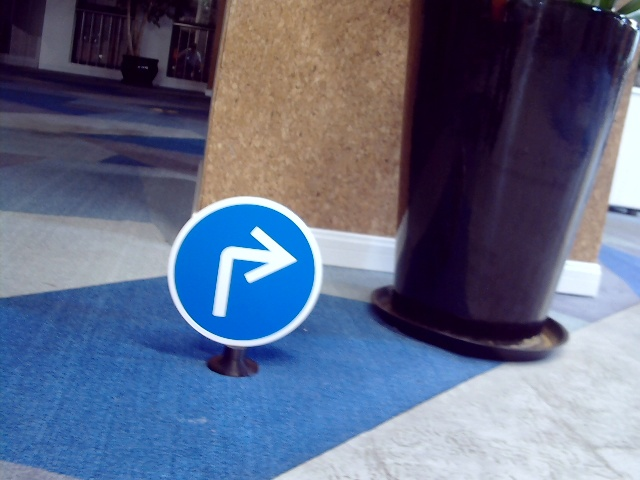turn_right: (205, 226, 297, 320)
